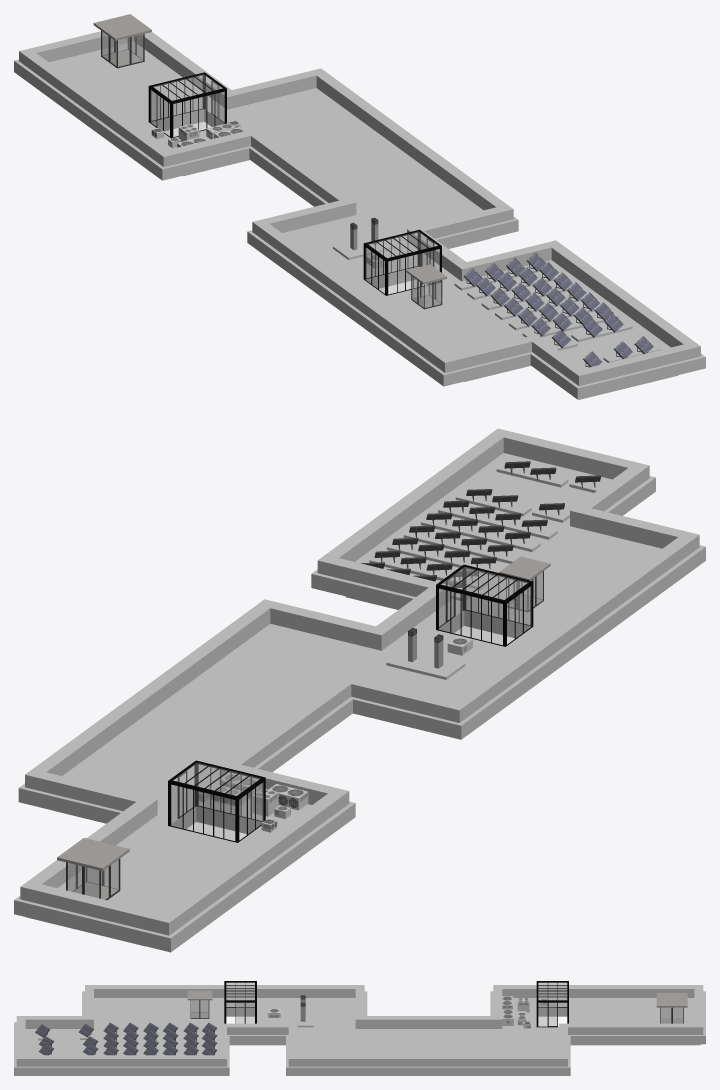
Rendered from sm_government_building_floor_roof.FBX.
3 renders of one model, top to bottom at view 1: azimuth 30°, elevation 25°; view 2: azimuth 150°, elevation 25°; view 3: azimuth 270°, elevation 25°, orthographic. The views are drawn at different scales.
Visible parts, largest first — view 1: sm_government_building_floor_roof; view 2: sm_government_building_floor_roof; view 3: sm_government_building_floor_roof.
Boxes of the visible parts, left/top/right/bottom form: sm_government_building_floor_roof: left=14, top=14, right=705, bottom=399; sm_government_building_floor_roof: left=14, top=428, right=705, bottom=952; sm_government_building_floor_roof: left=14, top=981, right=705, bottom=1075.
Bounding box in the file's own units: 1992 × 435 × 7638.
